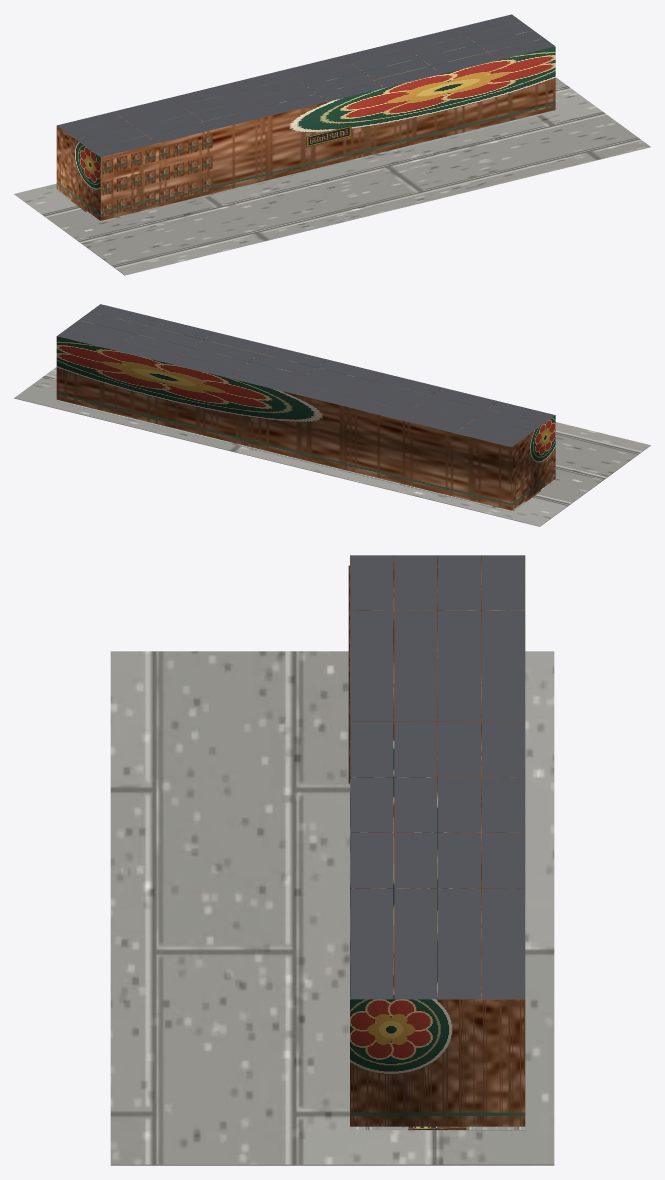
3 renders of one model, top to bottom at view 1: azimuth 30°, elevation 25°; view 2: azimuth 150°, elevation 25°; view 3: azimuth 270°, elevation 25°, orthographic. The views are drawn at different scales.
Parts seen in each view (by area): view 1: 11140_02_04548_030_01_L2__base, 11140_02_04548_030_02_L2__body, 11140_02_04548_030_03_L2__roof, 11140_02_04548_030_05_L2__openings, 11140_02_04548_030_04_L2__sign; view 2: 11140_02_04548_030_02_L2__body, 11140_02_04548_030_03_L2__roof, 11140_02_04548_030_01_L2__base; view 3: 11140_02_04548_030_01_L2__base, 11140_02_04548_030_03_L2__roof, 11140_02_04548_030_02_L2__body.
Boxes of the visible parts, x1,y1,x2,y2 form: 11140_02_04548_030_01_L2__base: [14, 77, 650, 275]; 11140_02_04548_030_02_L2__body: [56, 22, 555, 220]; 11140_02_04548_030_03_L2__roof: [57, 14, 554, 157]; 11140_02_04548_030_05_L2__openings: [102, 134, 212, 216]; 11140_02_04548_030_04_L2__sign: [306, 125, 351, 147]; 11140_02_04548_030_02_L2__body: [56, 312, 555, 510]; 11140_02_04548_030_03_L2__roof: [57, 304, 554, 446]; 11140_02_04548_030_01_L2__base: [14, 367, 650, 526]; 11140_02_04548_030_01_L2__base: [110, 651, 554, 1165]; 11140_02_04548_030_03_L2__roof: [350, 555, 524, 999]; 11140_02_04548_030_02_L2__body: [350, 555, 525, 1130].
Size of the model in its own units: 104 by 12.42 by 38.
Materials: 5 (5 with a texture image).
